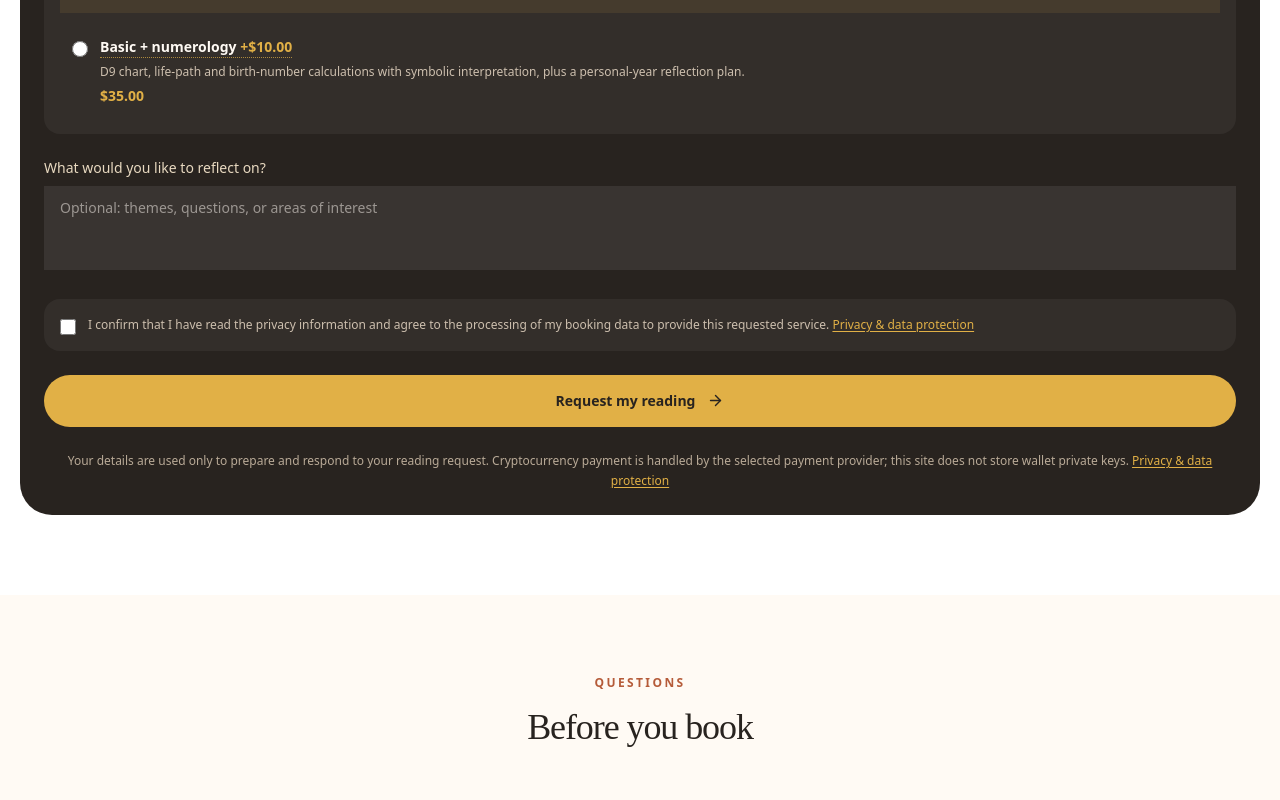
Scenario: Home booking payment UX › shows application-controlled validation in en
This screenshot has width=1280, height=800.
(page scrolled)
Step 1. Click the button "Request my reading" → (640, 401), box [44, 375, 1236, 427]
(page scrolled)
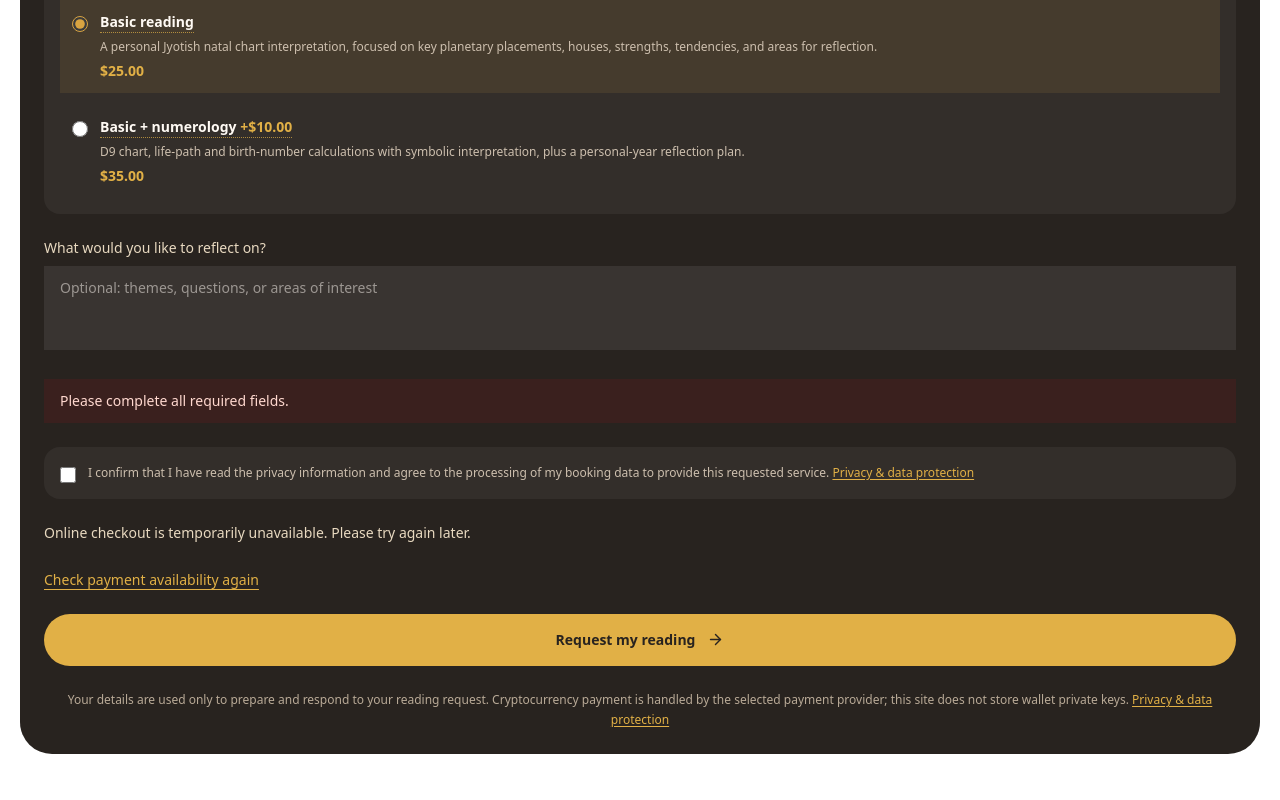
Expected: the message "Please complete all required fields." is shown, [44, 379, 1236, 423]
